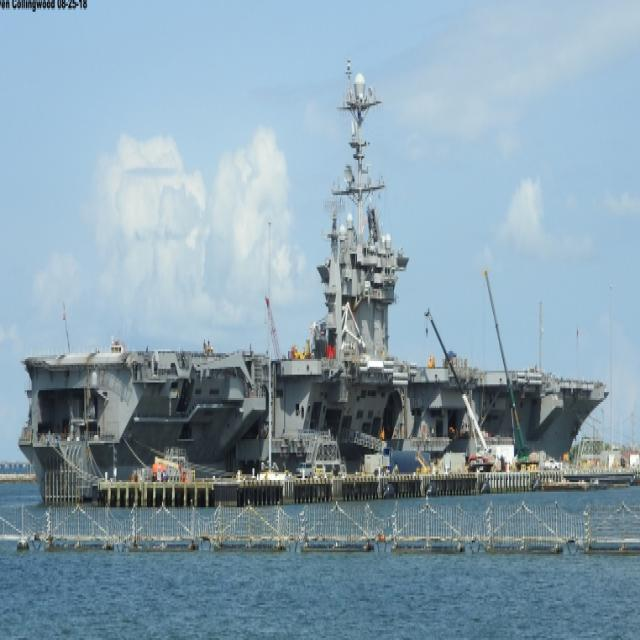Portanaves: (17, 48, 615, 516)
